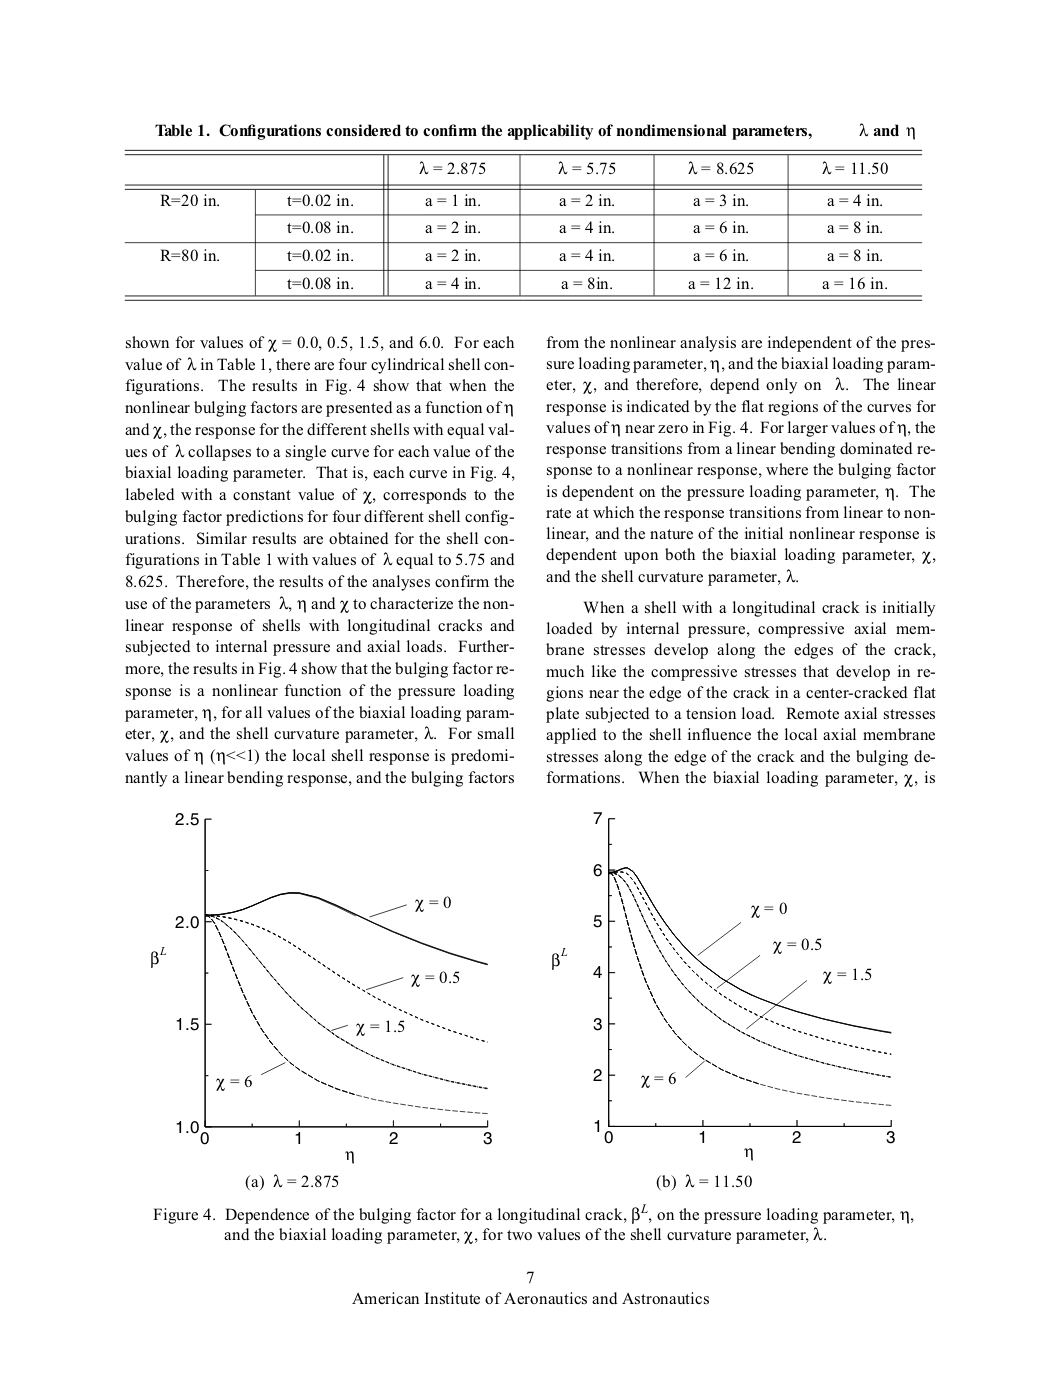Table: (124, 148, 922, 301)
figure: (552, 811, 894, 1145), (150, 812, 491, 1145)
